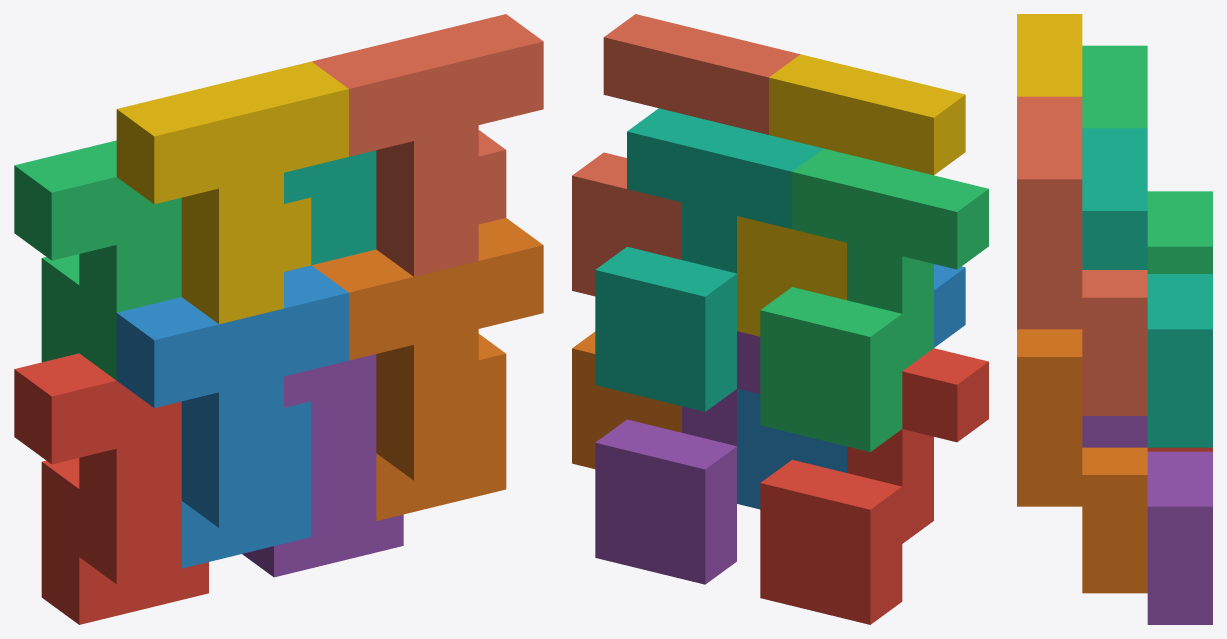
File: tiling.obj
The picture shows the model from 3 angles, left to right: view 1: azimuth 30°, elevation 25°; view 2: azimuth 150°, elevation 25°; view 3: azimuth 270°, elevation 25°; orthographic projection. The views are drawn at different scales.
Parts seen in each view (by area): view 1: copy_1_domain_2, copy_1_domain_6, copy_1_domain_4, copy_1_domain_8, copy_1_domain_1, copy_1_domain_3, copy_1_domain_5, copy_1_domain_7; view 2: copy_1_domain_3, copy_1_domain_7, copy_1_domain_1, copy_1_domain_4, copy_1_domain_8, copy_1_domain_5, copy_1_domain_2, copy_1_domain_6; view 3: copy_1_domain_8, copy_1_domain_6, copy_1_domain_7, copy_1_domain_5, copy_1_domain_3, copy_1_domain_4, copy_1_domain_1.
Part boxes in pixels (box(x1,y1,x2,y2)): copy_1_domain_2: box(116, 265, 348, 568); copy_1_domain_6: box(312, 218, 543, 520); copy_1_domain_4: box(116, 61, 348, 324); copy_1_domain_8: box(312, 14, 543, 276); copy_1_domain_1: box(14, 353, 208, 624); copy_1_domain_3: box(14, 140, 181, 380); copy_1_domain_5: box(242, 354, 403, 577); copy_1_domain_7: box(284, 150, 376, 265); copy_1_domain_3: box(760, 148, 988, 452); copy_1_domain_7: box(595, 108, 823, 411); copy_1_domain_1: box(760, 348, 988, 624); copy_1_domain_4: box(737, 54, 965, 336); copy_1_domain_8: box(572, 14, 800, 296); copy_1_domain_5: box(595, 331, 760, 584); copy_1_domain_2: box(737, 264, 965, 509); copy_1_domain_6: box(572, 331, 681, 468); copy_1_domain_8: box(1017, 96, 1147, 415); copy_1_domain_6: box(1017, 329, 1147, 593); copy_1_domain_7: box(1082, 128, 1212, 447); copy_1_domain_5: box(1082, 416, 1212, 624); copy_1_domain_3: box(1082, 45, 1212, 273); copy_1_domain_4: box(1017, 14, 1082, 96); copy_1_domain_1: box(1147, 447, 1212, 451).
Bounding box in the file's own units: 7 × 8 × 3.
